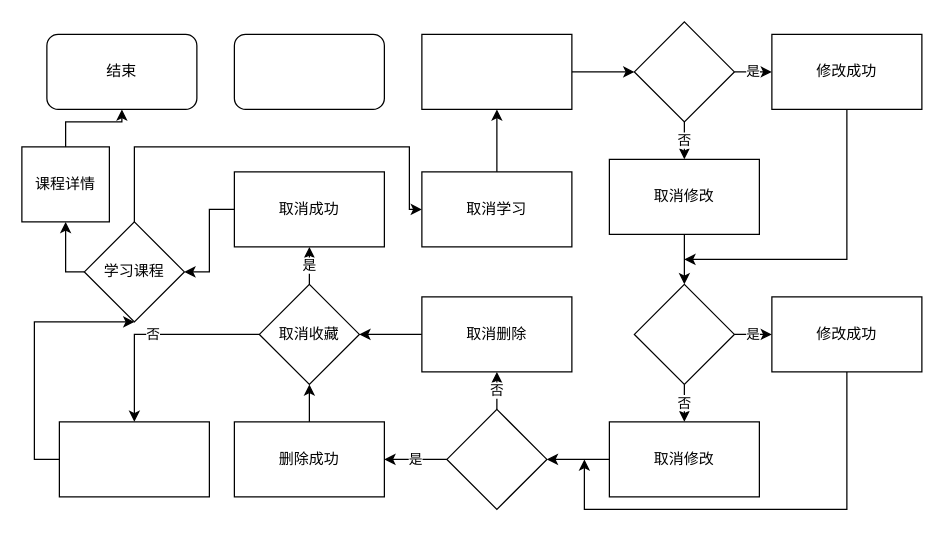
Some shapes in this 944 by 541 pixel diagram are drawn without their labels. Here are the shapes that lost their labels. From the top down, the box of each, then its label:
(233, 33, 384, 109): 开始
(421, 33, 572, 109): 个人中心
(633, 21, 734, 122): 修改资料
(633, 283, 734, 384): 修改密码
(58, 421, 209, 497): 保留收藏
(446, 408, 547, 509): 删除订单
